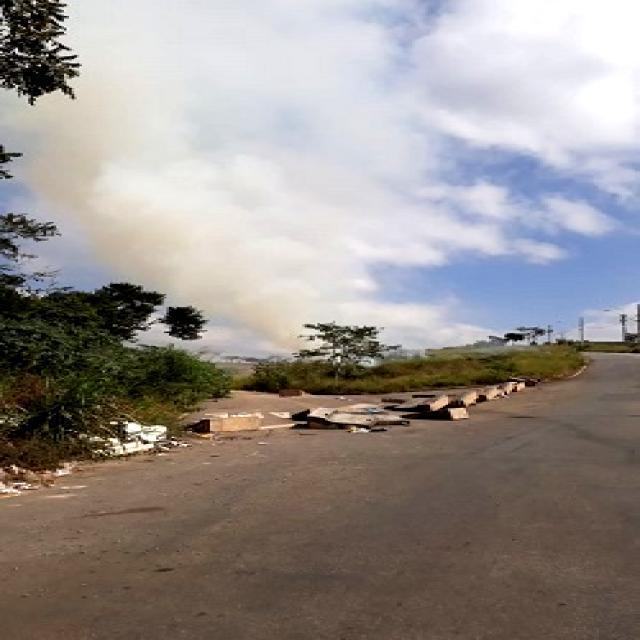Smoke: (0, 0, 394, 340)
